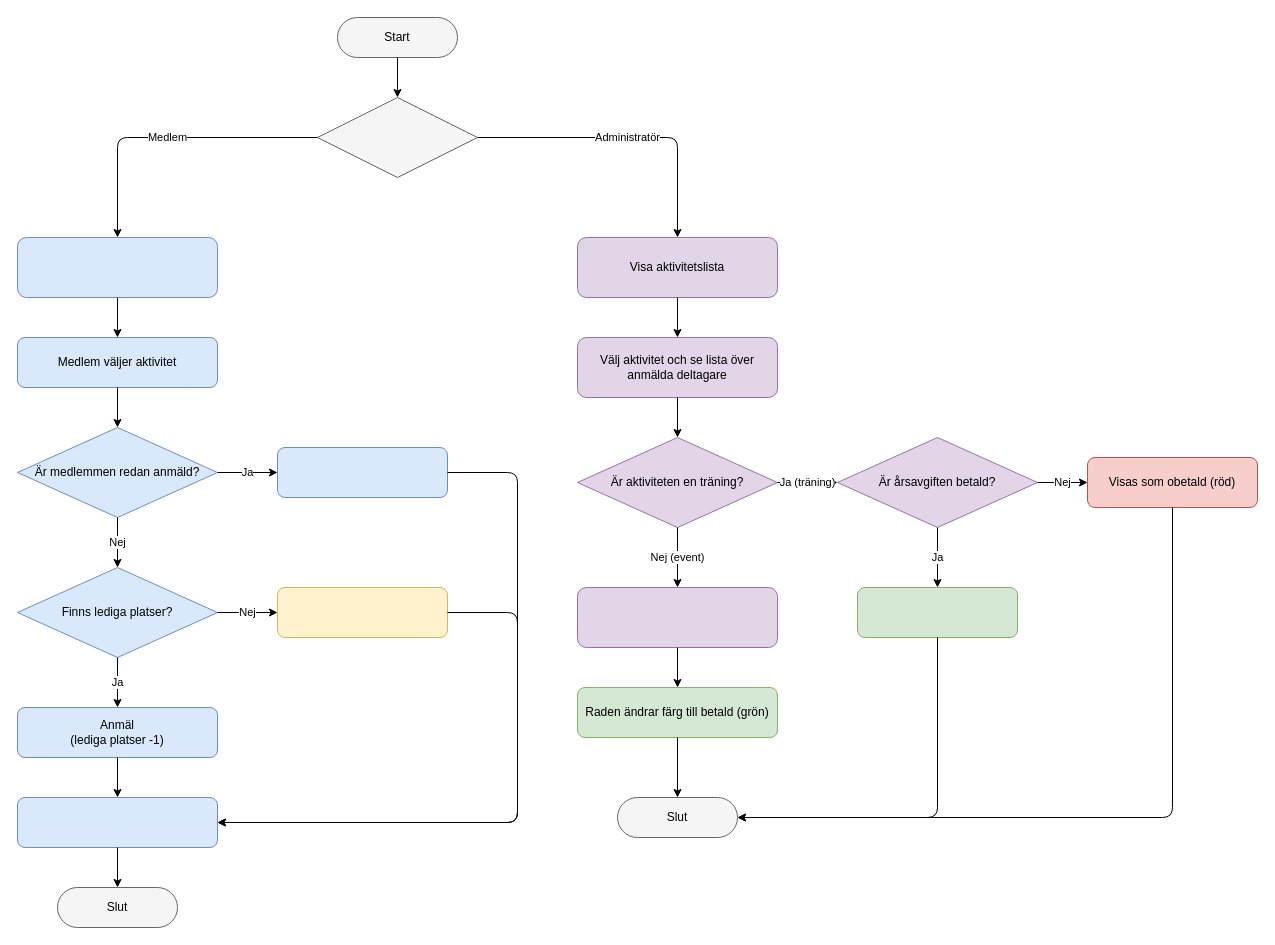
The diagram is 1275 pixels wide and 945 high, and some of its shapes have lost their labels. Each missing label, with the centre of its shape:
Admin klickar på "Markera som betald": point 677,617
Avregistrera (lediga platser +1): point 362,472
Uppdatera listan: point 117,822
Vilken roll?: point 397,137
Visa aktivitetslista (namn, datum, plats, lediga platser): point 117,267
Visa meddelande: aktiviteten är full: point 362,612
Visas som betald (grön): point 937,612
